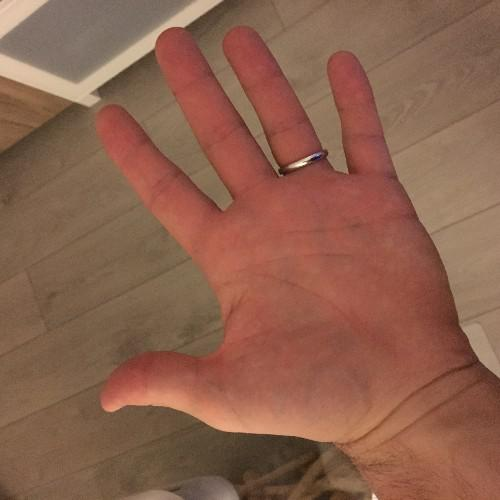paper: (82, 22, 472, 445)
